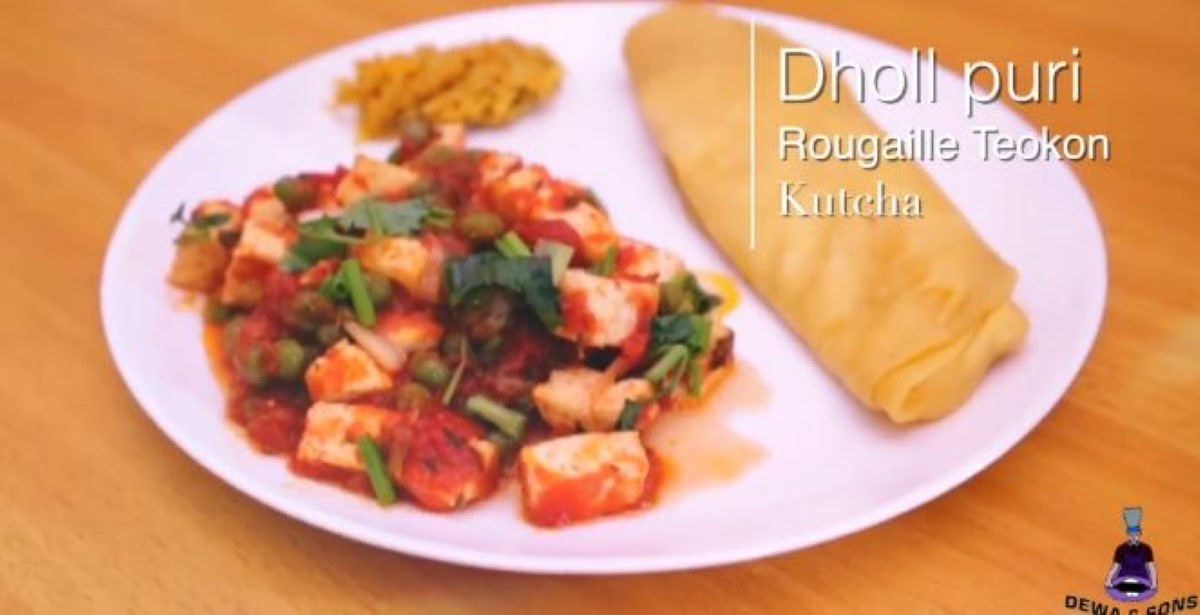Farata: (608, 1, 1046, 427)
